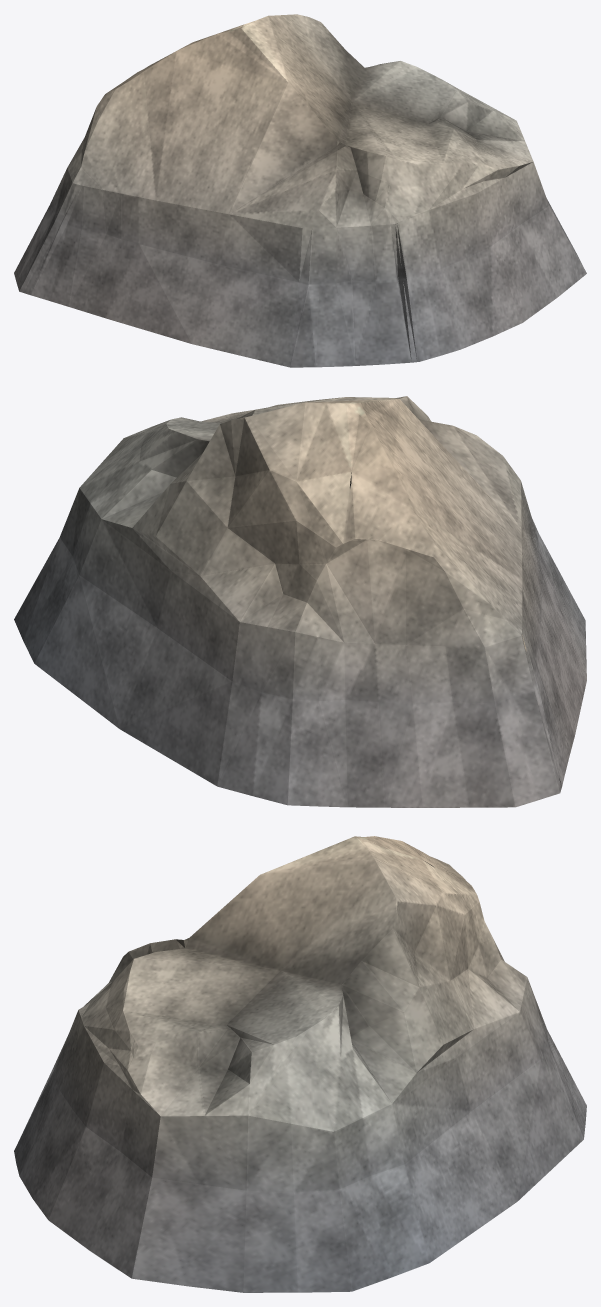
The model's file is shore-rock-1.glb.
The picture shows the model from 3 angles, top to bottom: view 1: azimuth 30°, elevation 25°; view 2: azimuth 150°, elevation 25°; view 3: azimuth 270°, elevation 25°; orthographic projection. The views are drawn at different scales.
Parts seen in each view (by area): view 1: Shore boulder 1; view 2: Shore boulder 1; view 3: Shore boulder 1.
Boxes of the visible parts, x1,y1,x2,y2 form: Shore boulder 1: (14, 14, 586, 367); Shore boulder 1: (14, 396, 586, 807); Shore boulder 1: (14, 836, 586, 1292).
Bounding box in the file's own units: 2.63 × 1.29 × 2.29.
Materials: 1 (1 with a texture image).
